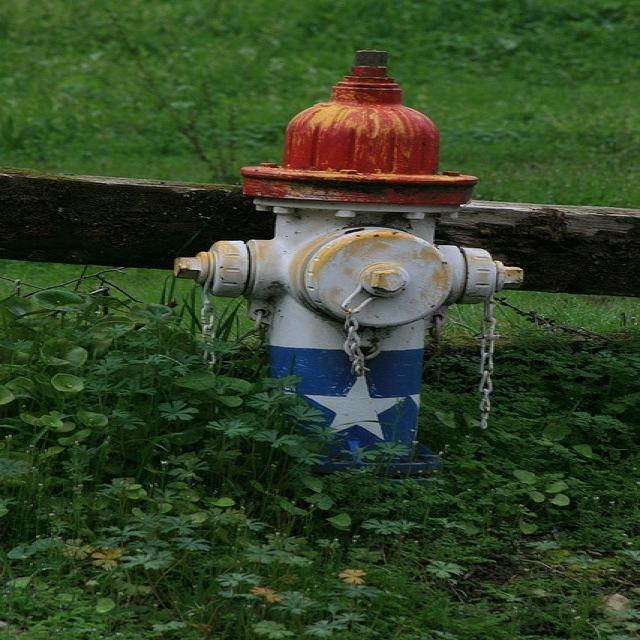fire_hydrant: (223, 30, 516, 471)
